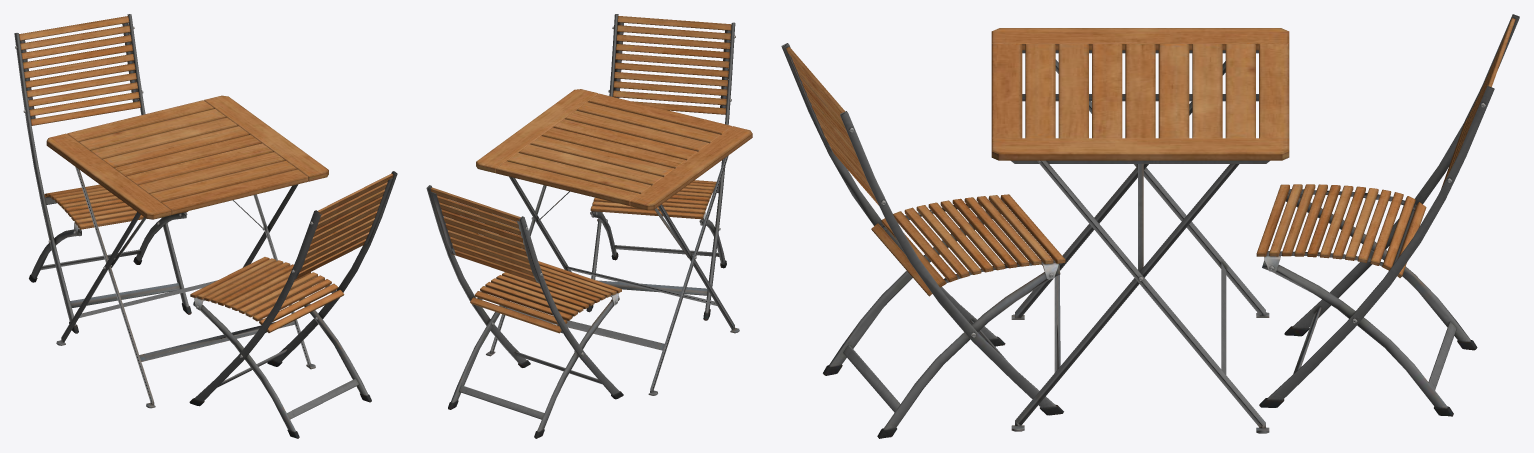
File: outdoor_table_chair_set_01.glb
3 renders of one model, left to right at view 1: azimuth 30°, elevation 25°; view 2: azimuth 150°, elevation 25°; view 3: azimuth 270°, elevation 25°, orthographic. The views are drawn at different scales.
Visible parts, largest first — view 1: outdoor_table_chair_set_01_table, outdoor_table_chair_set_01_chair_02, outdoor_table_chair_set_01_chair_01; view 2: outdoor_table_chair_set_01_table, outdoor_table_chair_set_01_chair_02, outdoor_table_chair_set_01_chair_01; view 3: outdoor_table_chair_set_01_table, outdoor_table_chair_set_01_chair_01, outdoor_table_chair_set_01_chair_02.
Part boxes in pixels (left/top/right/bottom): outdoor_table_chair_set_01_table: left=46, top=95, right=328, bottom=408; outdoor_table_chair_set_01_chair_02: left=14, top=14, right=191, bottom=333; outdoor_table_chair_set_01_chair_01: left=189, top=171, right=397, bottom=438; outdoor_table_chair_set_01_table: left=476, top=89, right=752, bottom=395; outdoor_table_chair_set_01_chair_02: left=426, top=185, right=623, bottom=438; outdoor_table_chair_set_01_chair_01: left=586, top=14, right=735, bottom=320; outdoor_table_chair_set_01_table: left=991, top=28, right=1289, bottom=433; outdoor_table_chair_set_01_chair_01: left=781, top=43, right=1065, bottom=438; outdoor_table_chair_set_01_chair_02: left=1256, top=14, right=1519, bottom=416.
Bounding box in the file's own units: 0.7417 × 0.8575 × 1.72.
Materials: 2 (2 with a texture image).
